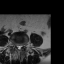CCS_stenosis: (18, 43, 20, 50)
LFS_severe_stenosis: (22, 43, 23, 48)
LLS_normal: (20, 43, 21, 49)
RFS_severe_stenosis: (14, 43, 16, 48)
RLS_stenosis: (16, 44, 18, 49)
